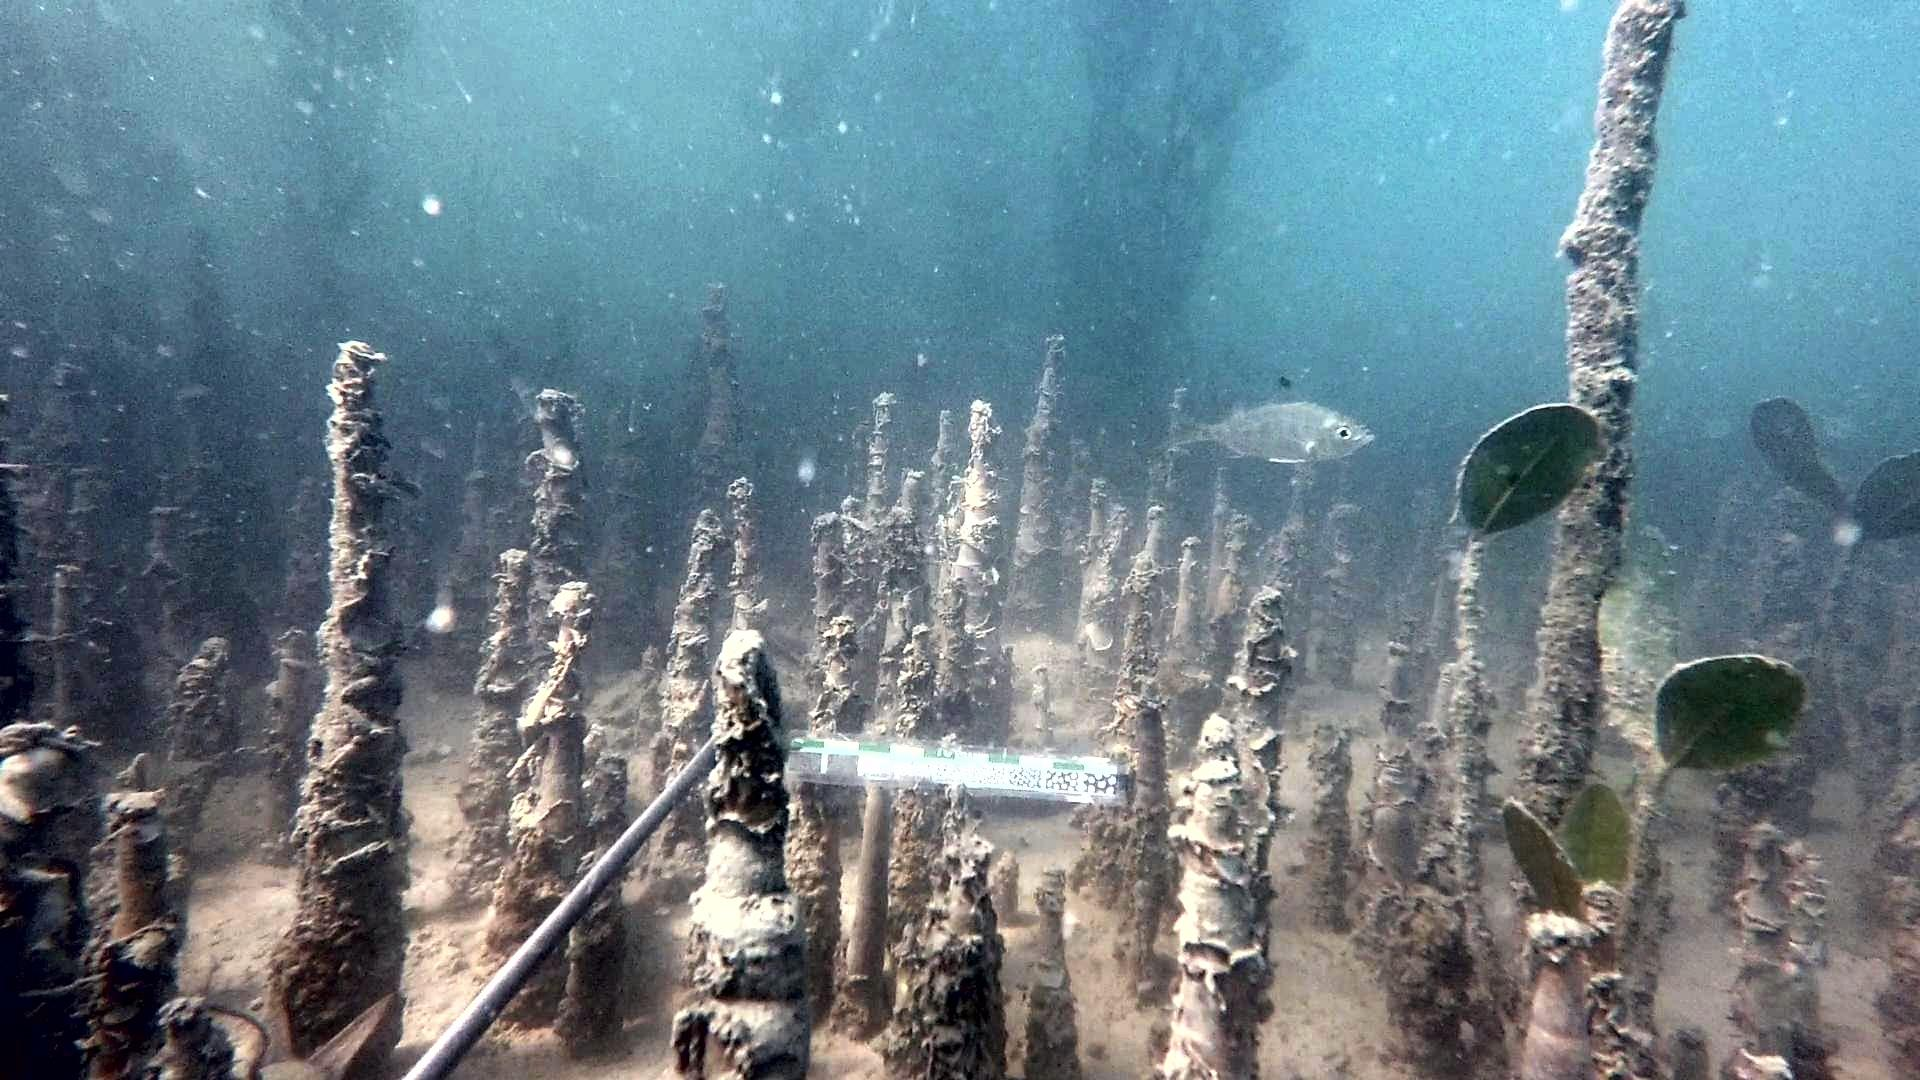gerres: (1164, 374, 1379, 467)
